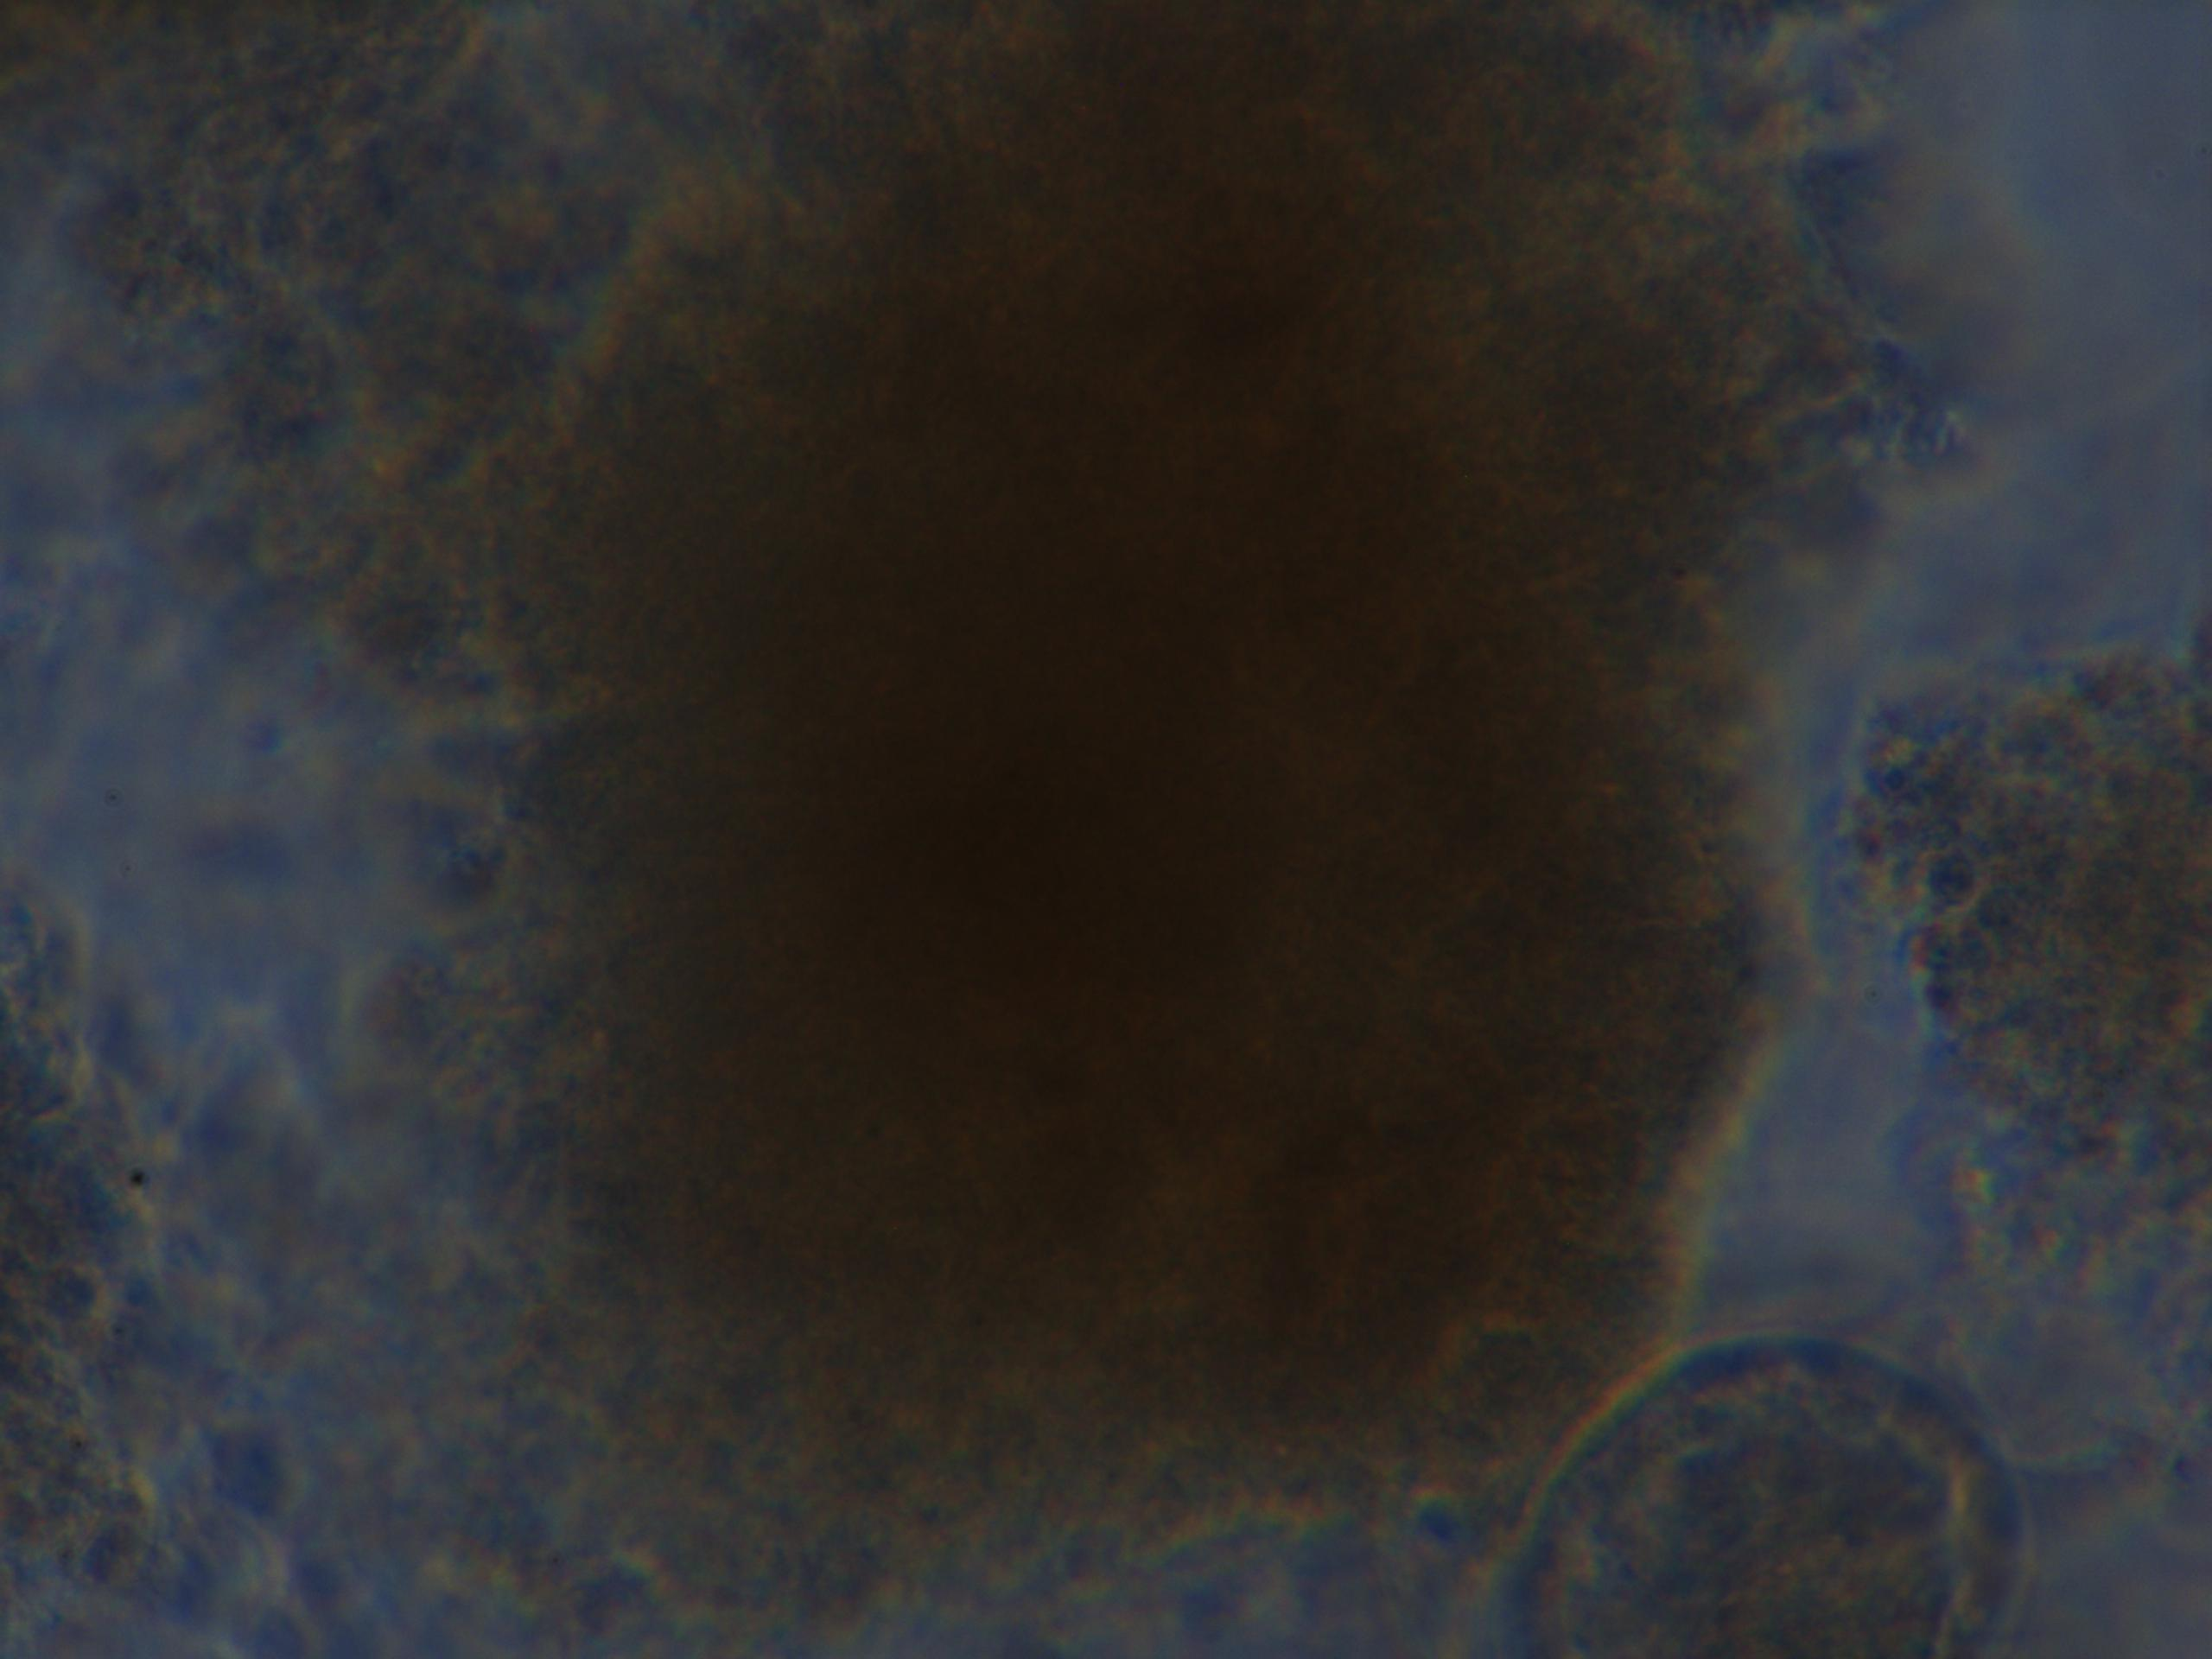spherical_floc: (444, 0, 1850, 1558)
